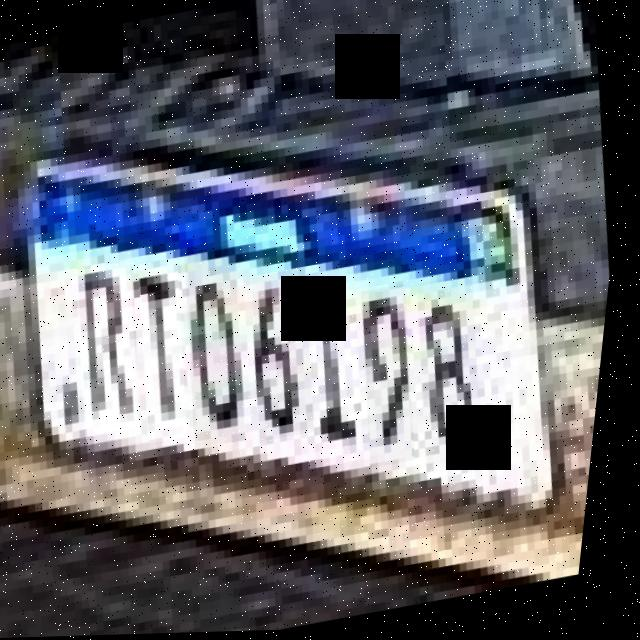6: (244, 269, 337, 444)
9: (409, 276, 507, 469), (353, 286, 440, 473)
I: (299, 269, 387, 463)
O: (174, 244, 272, 451)
R: (68, 261, 162, 439)
T: (130, 259, 212, 447)
